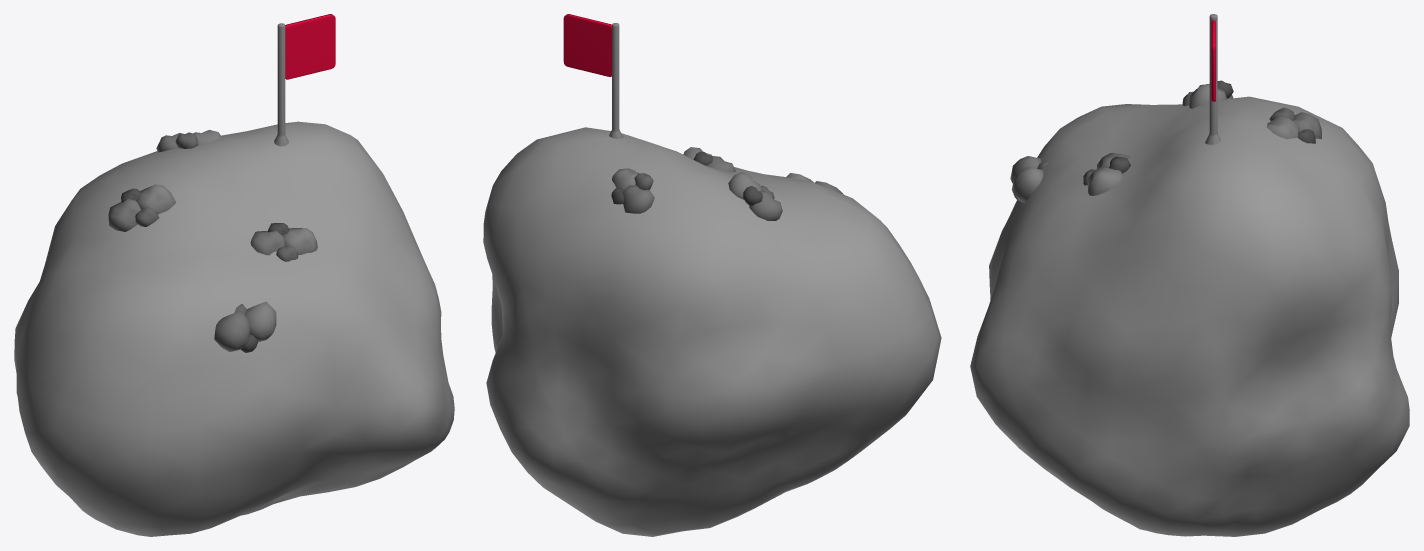
The model's file is AboutMe.fbx.
The picture shows the model from 3 angles, left to right: view 1: azimuth 30°, elevation 25°; view 2: azimuth 150°, elevation 25°; view 3: azimuth 270°, elevation 25°; orthographic projection. The views are drawn at different scales.
Visible parts, largest first — view 1: Icosphere, Cube, Cylinder, Icosphere.015, Icosphere.014, Icosphere.003, Icosphere.002, Icosphere.006, Icosphere.007; view 2: Icosphere, Cube, Cylinder, Icosphere.011, Icosphere.002; view 3: Icosphere, Cylinder, Icosphere.014, Icosphere.006, Icosphere.010.
Boxes of the visible parts, bbox=[...] form: Icosphere: bbox=[14, 121, 454, 536]; Cube: bbox=[285, 14, 335, 79]; Cylinder: bbox=[274, 23, 288, 146]; Icosphere.015: bbox=[214, 311, 250, 351]; Icosphere.014: bbox=[245, 301, 276, 341]; Icosphere.003: bbox=[136, 184, 176, 214]; Icosphere.002: bbox=[108, 199, 140, 231]; Icosphere.006: bbox=[283, 228, 317, 254]; Icosphere.007: bbox=[250, 231, 284, 255]; Icosphere: bbox=[483, 127, 941, 536]; Cube: bbox=[563, 14, 611, 76]; Cylinder: bbox=[609, 23, 623, 138]; Icosphere.011: bbox=[622, 185, 654, 213]; Icosphere.002: bbox=[749, 190, 782, 220]; Icosphere: bbox=[970, 96, 1409, 536]; Cylinder: bbox=[1205, 14, 1220, 144]; Icosphere.014: bbox=[1011, 167, 1043, 202]; Icosphere.006: bbox=[1087, 166, 1122, 195]; Icosphere.010: bbox=[1267, 117, 1299, 139].
Size of the model in its own units: 57.07 by 64.61 by 48.6.
